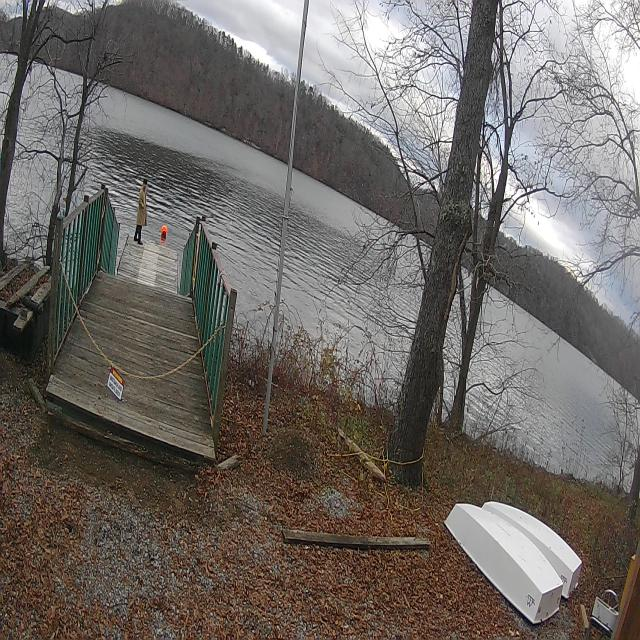Buoy: (157, 221, 170, 247)
